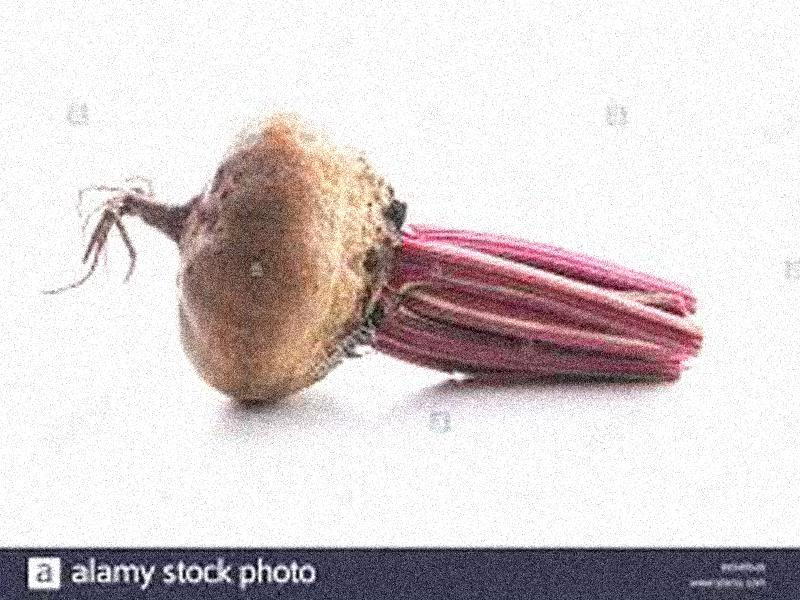Beet: (41, 115, 702, 403)
